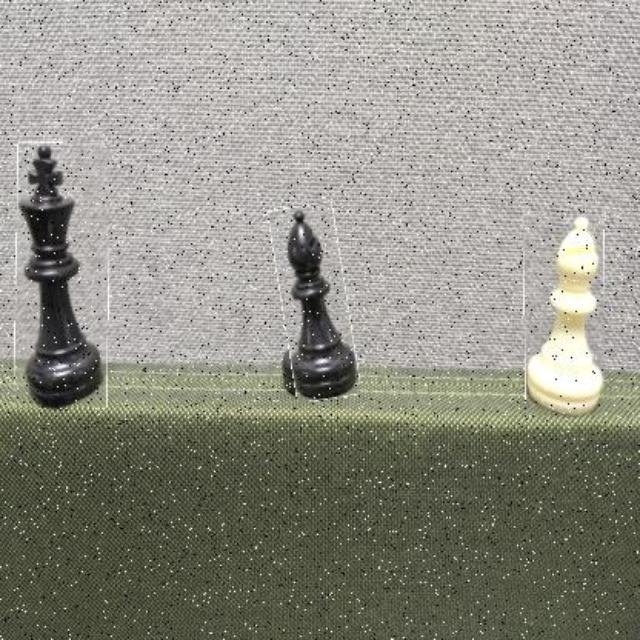black-bishop: (275, 204, 355, 402)
black-king: (15, 142, 110, 409)
white-bishop: (524, 213, 605, 416)
